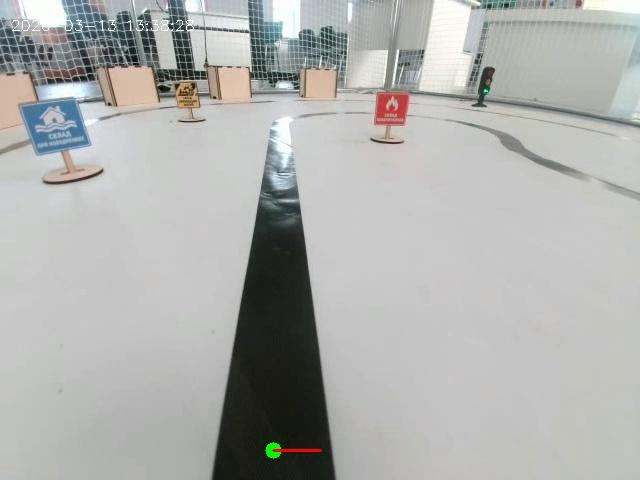fire: (362, 68, 418, 149)
flood: (16, 85, 100, 183)
industrial: (174, 76, 216, 136)
